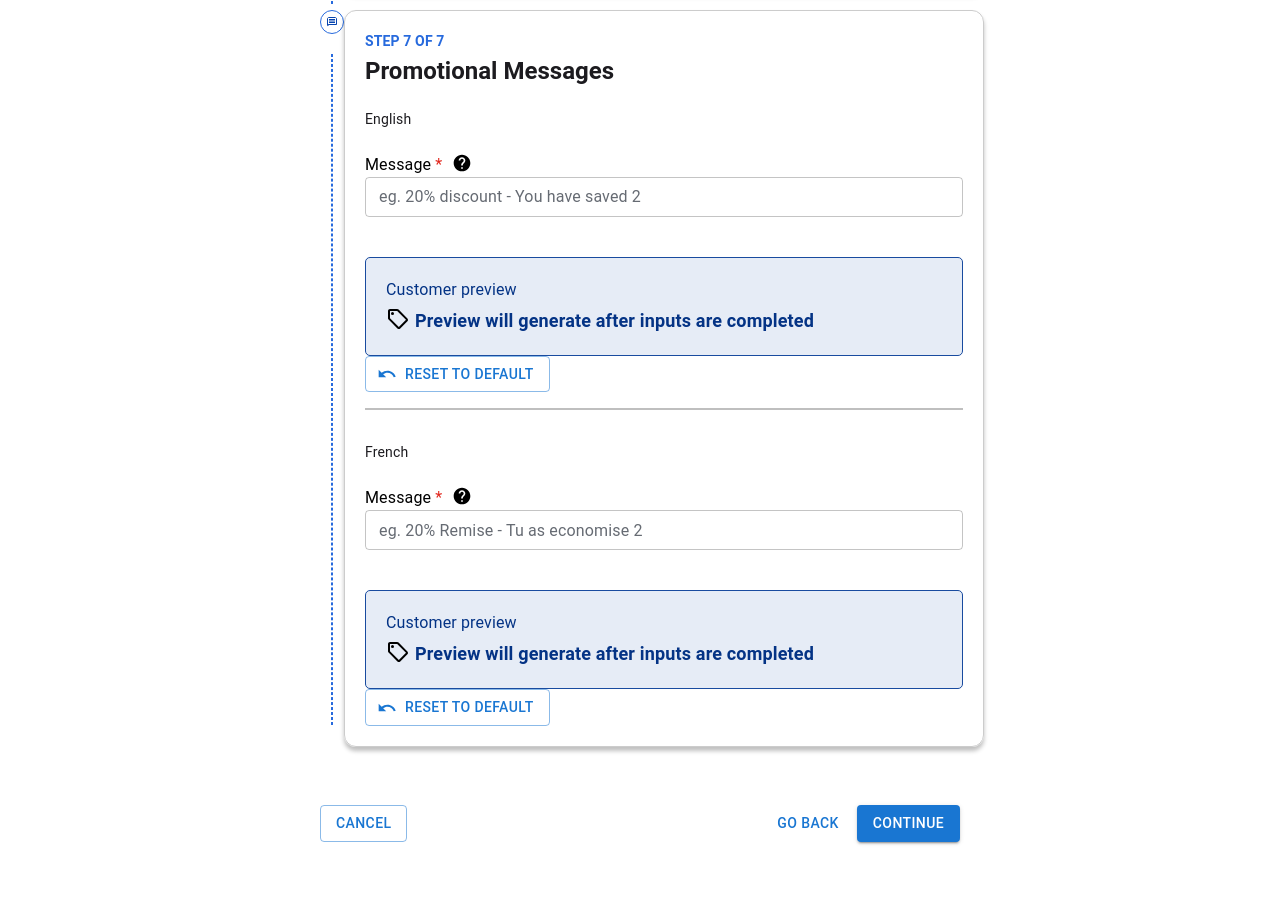
Test: Create deal form tests › Form is not submitted when required fields are not filled
(page scrolled)
Click the button with test id "continue-btn" at (908, 824), box [857, 805, 960, 842]
(page scrolled)
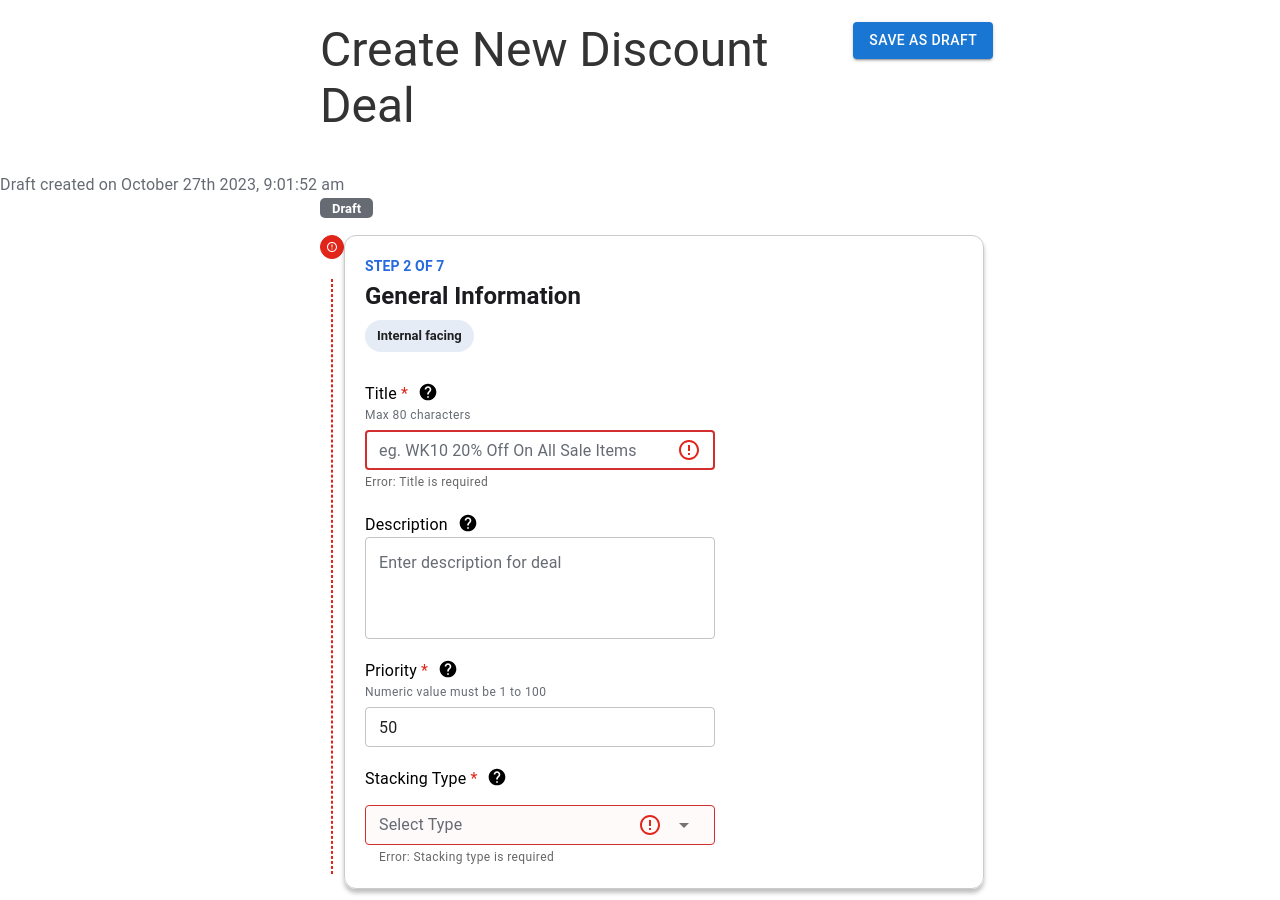
Now the text "Error: Title is required" is shown, box [365, 475, 488, 489]
